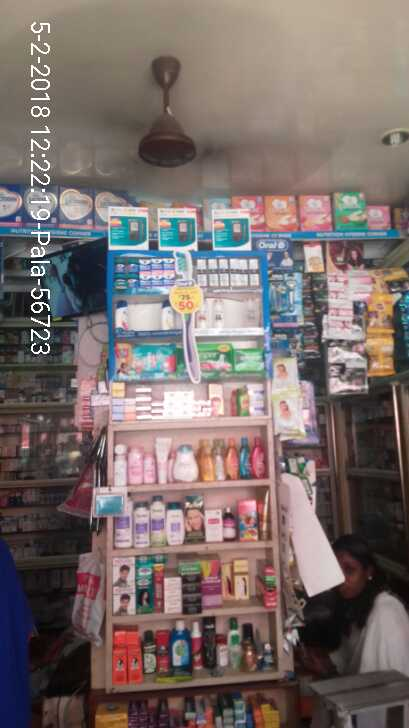vicks: (115, 254, 176, 291)
